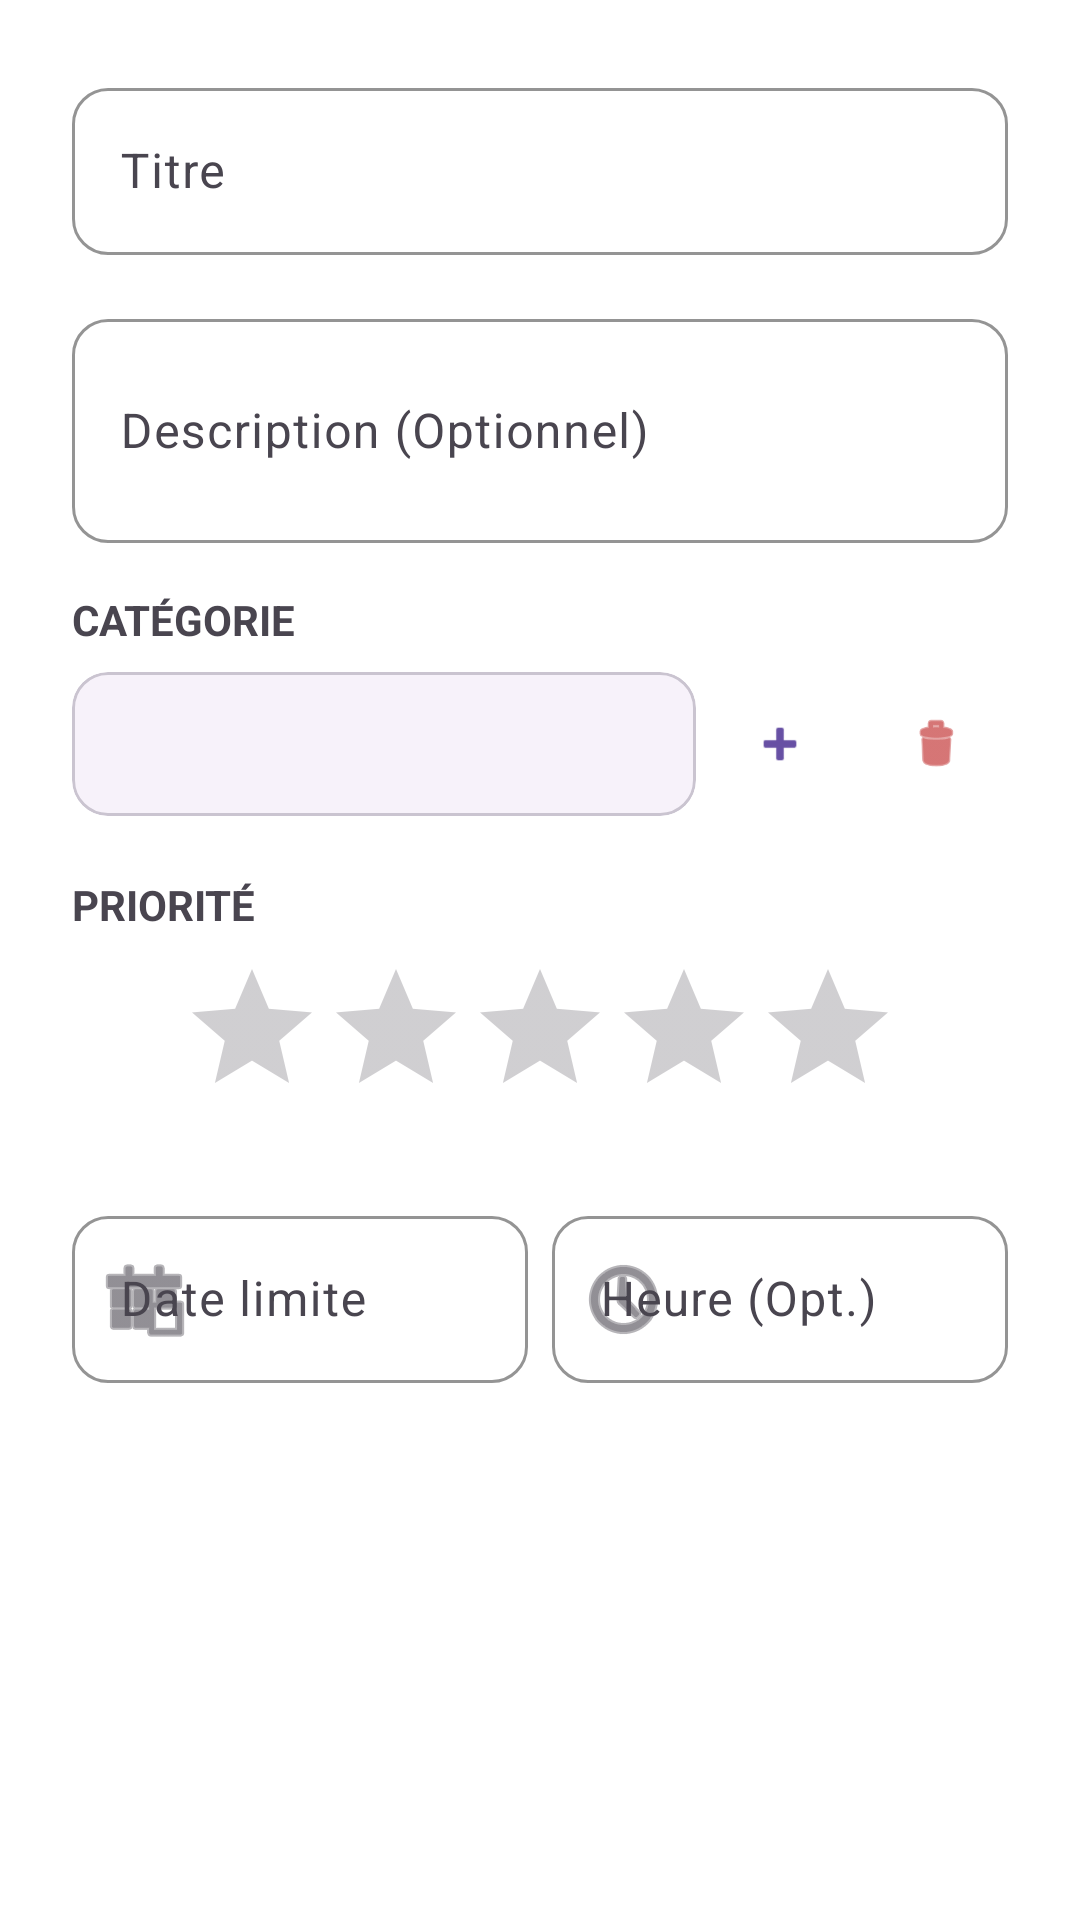

Point at icon controls on the screen. Image size 1080px×1920px, points as (x,y).
add: (780,744)
delete: (936,743)
